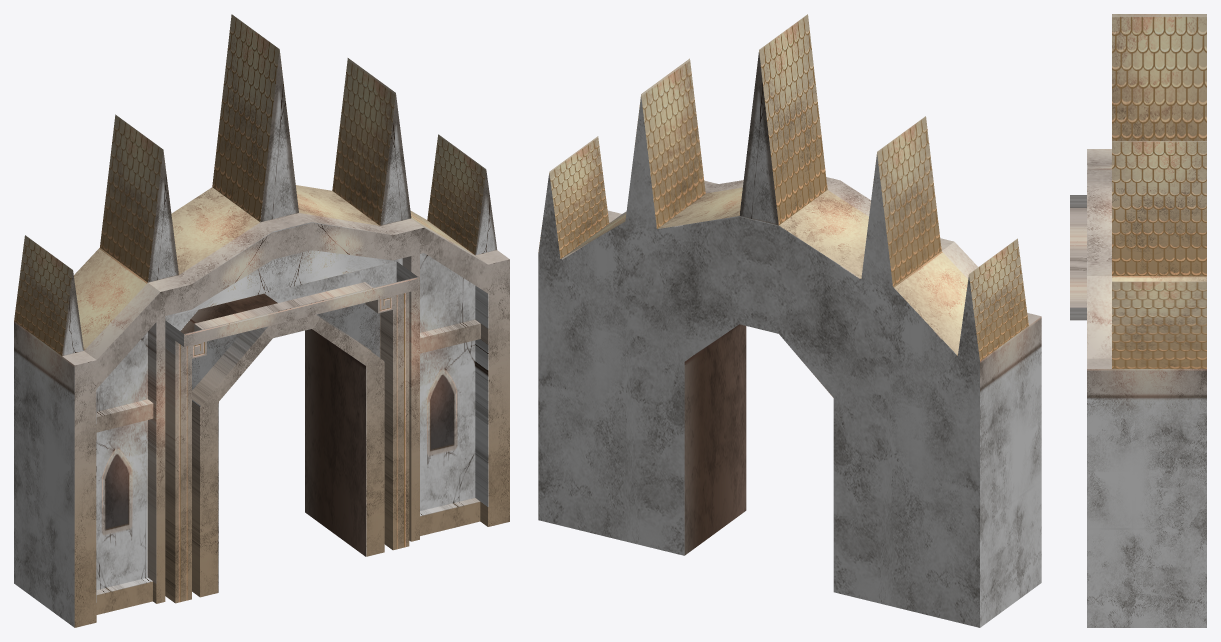
Rendered from door.FBX.
3 views of the same model, side by side, from view 1: azimuth 30°, elevation 25°; view 2: azimuth 150°, elevation 25°; view 3: azimuth 270°, elevation 25° (orthographic). The views are drawn at different scales.
Parts seen in each view (by area): view 1: Plane001; view 2: Plane001; view 3: Plane001.
Boxes of the visible parts, x1=… form: Plane001: x1=14, y1=14, x2=509, y2=627; Plane001: x1=538, y1=14, x2=1041, y2=627; Plane001: x1=1070, y1=14, x2=1206, y2=627.
Bounding box in the file's own units: 5.18 × 5.88 × 1.43.
